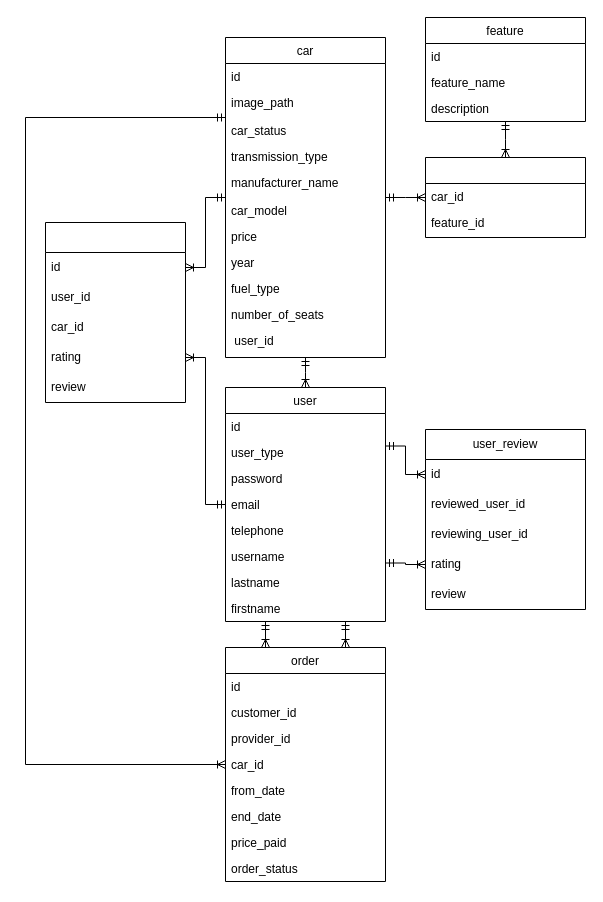
The diagram is 603 pixels wide and 902 high, and some of its shapes have lost their labels. The box of each missing label's shape, as (x1, y1, x2, y2) in pixels:
car_feature: (424, 156, 586, 238)
car_review: (44, 222, 186, 402)
